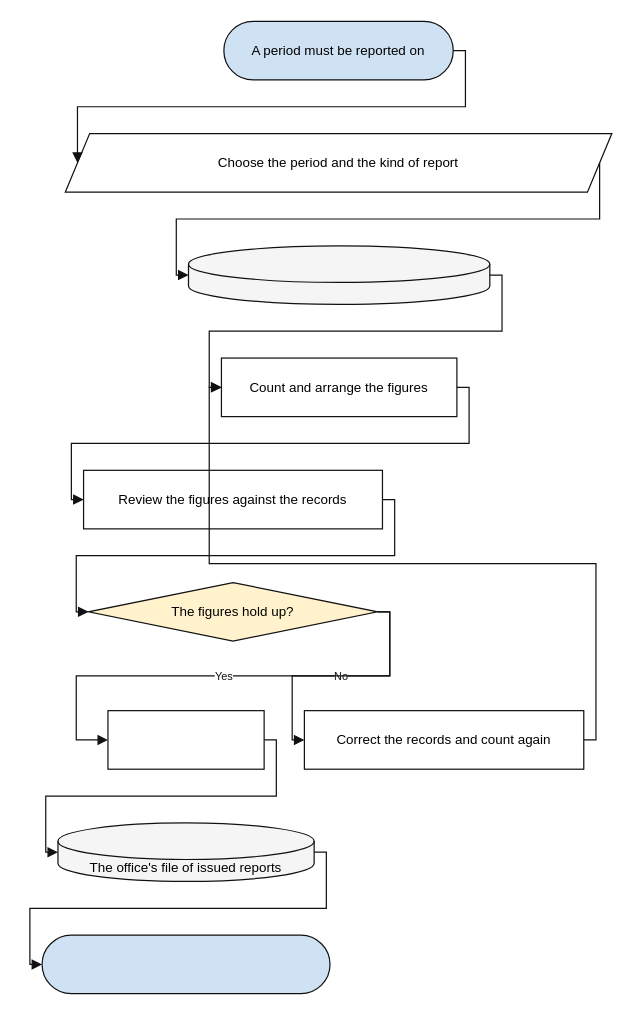
This 633x1015 diagram has some shape labels left out. Here are the shapes that lost their labels. From the top down, the centre of each, then its label:
pixel 338 274: Cases, assistance and releases on file
pixel 185 739: Produce the report
pixel 185 964: The report is filed and can be audited
